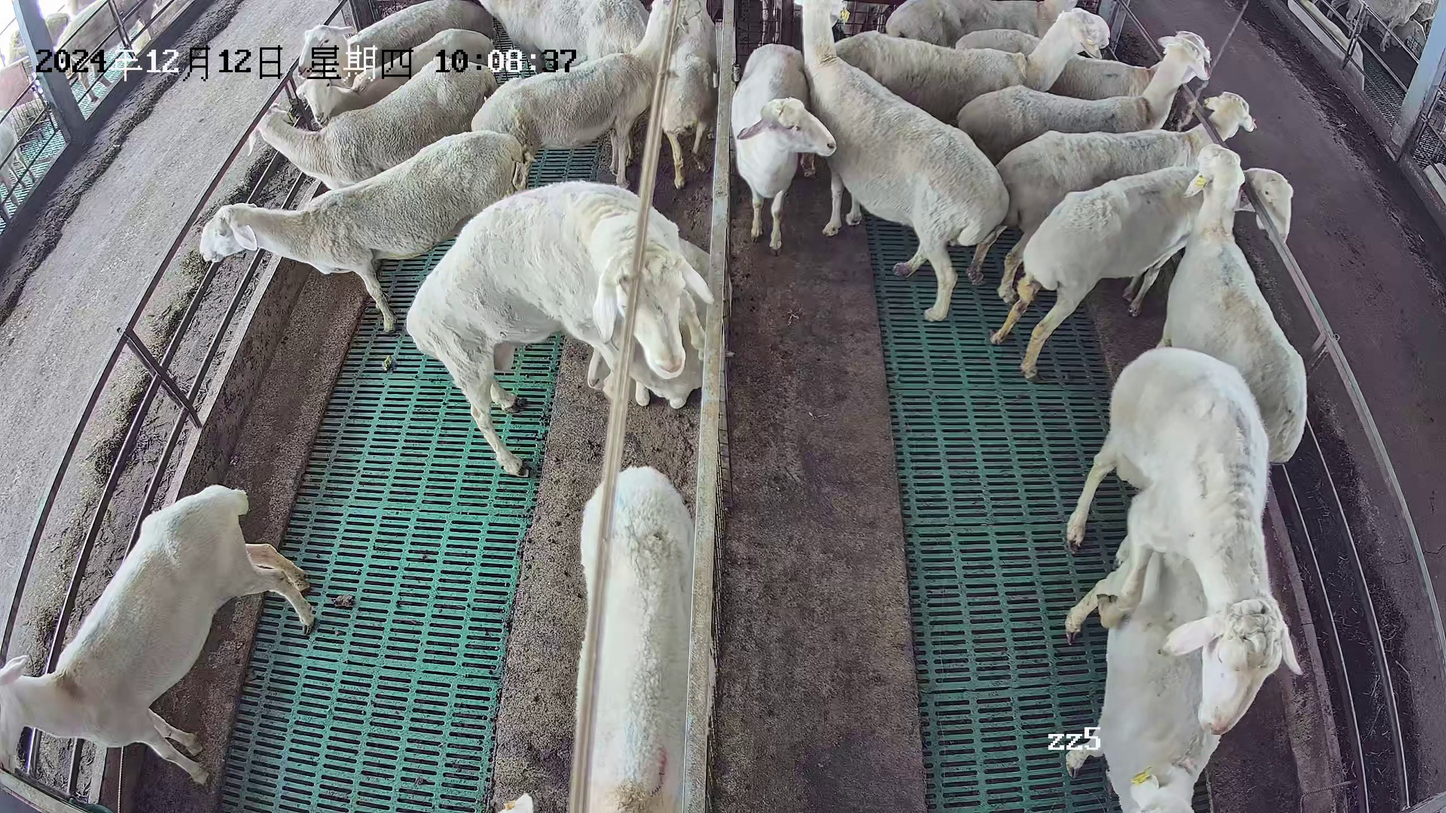Smounting: (1060, 345, 1304, 813)
mounted: (1062, 530, 1227, 813)
